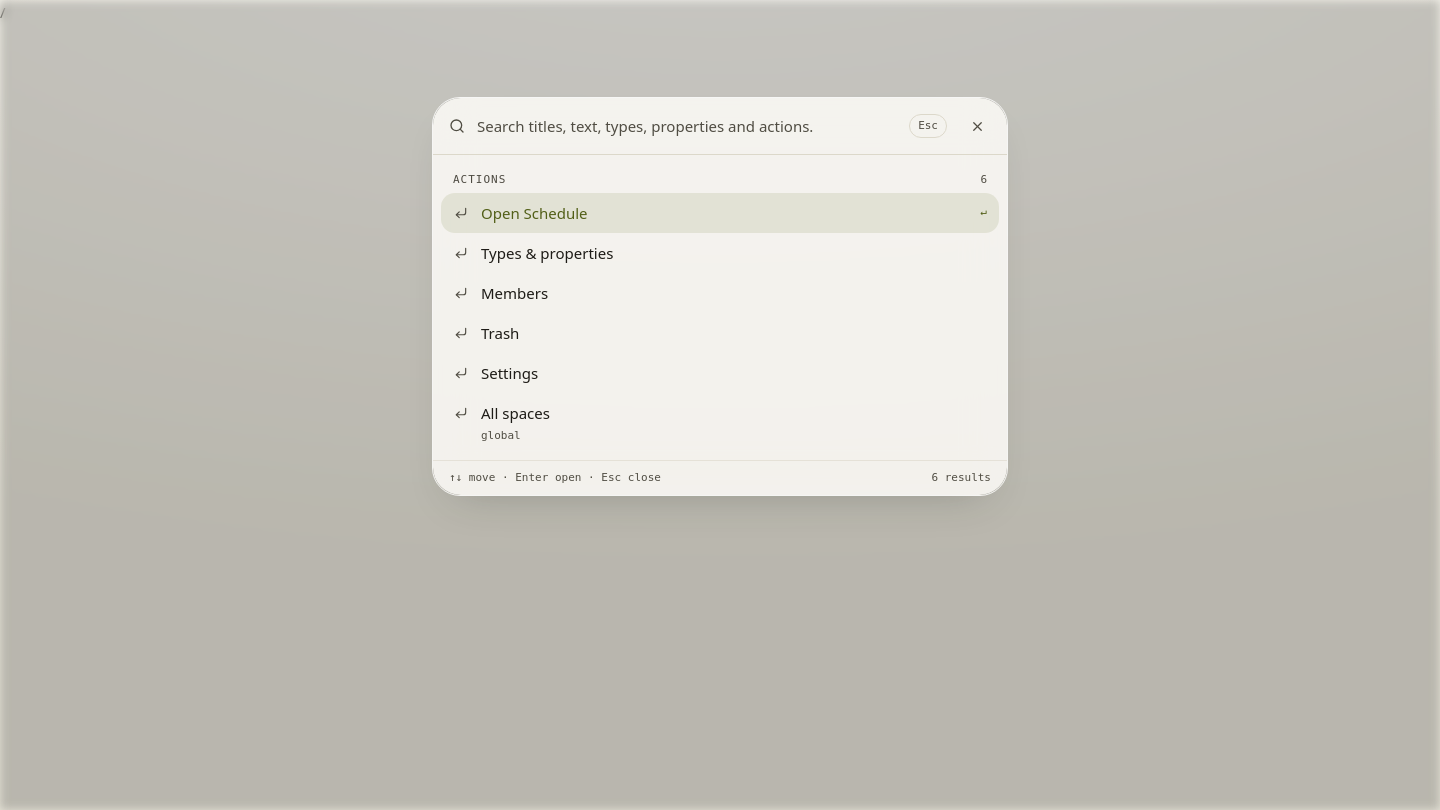
Scenario: CommandPalette › opens a typed date as its day
Type "2026-11-05" into the dropdown named "Search and commands" at (687, 126), box [477,98,897,154]
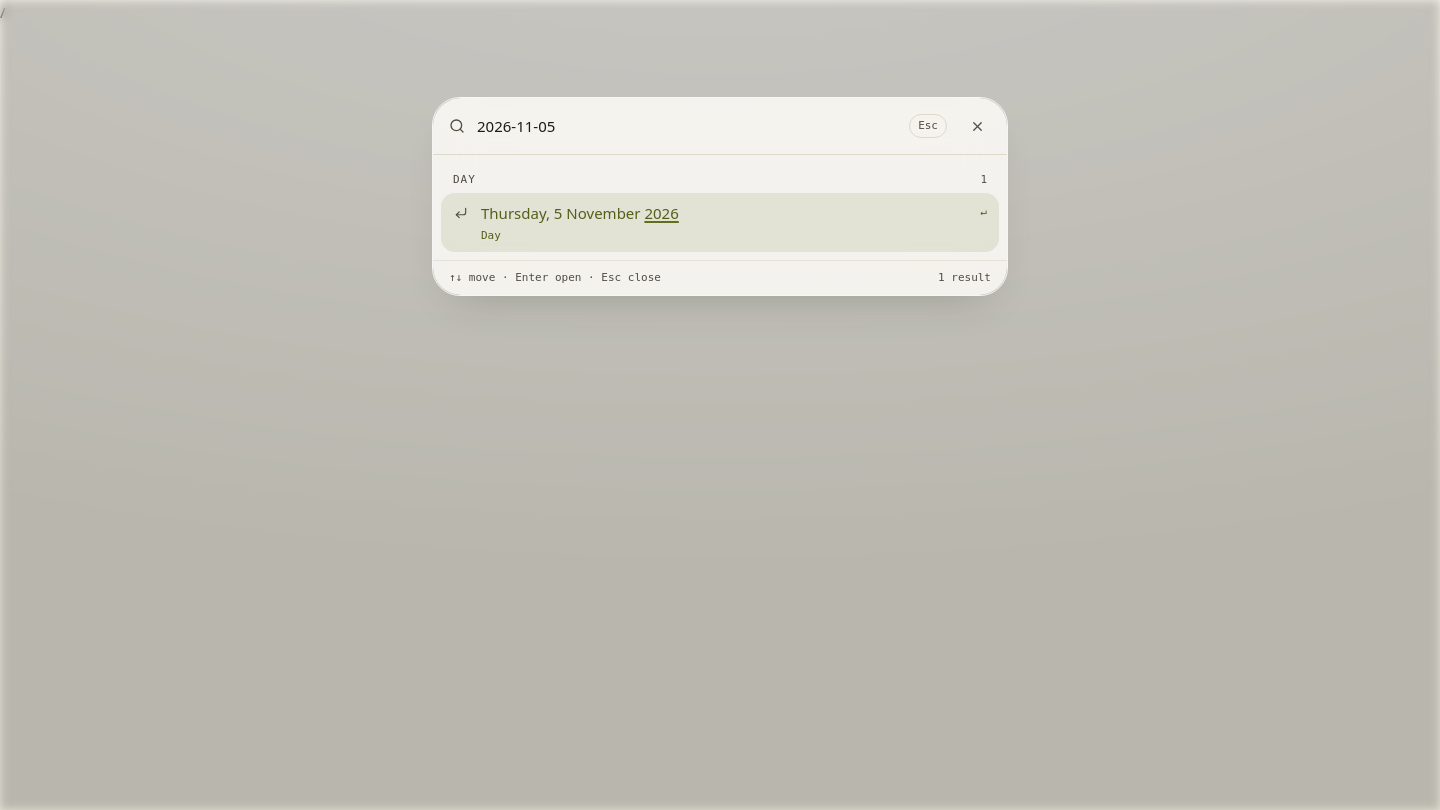
Press Enter in the dropdown named "Search and commands", box [477,98,897,154]
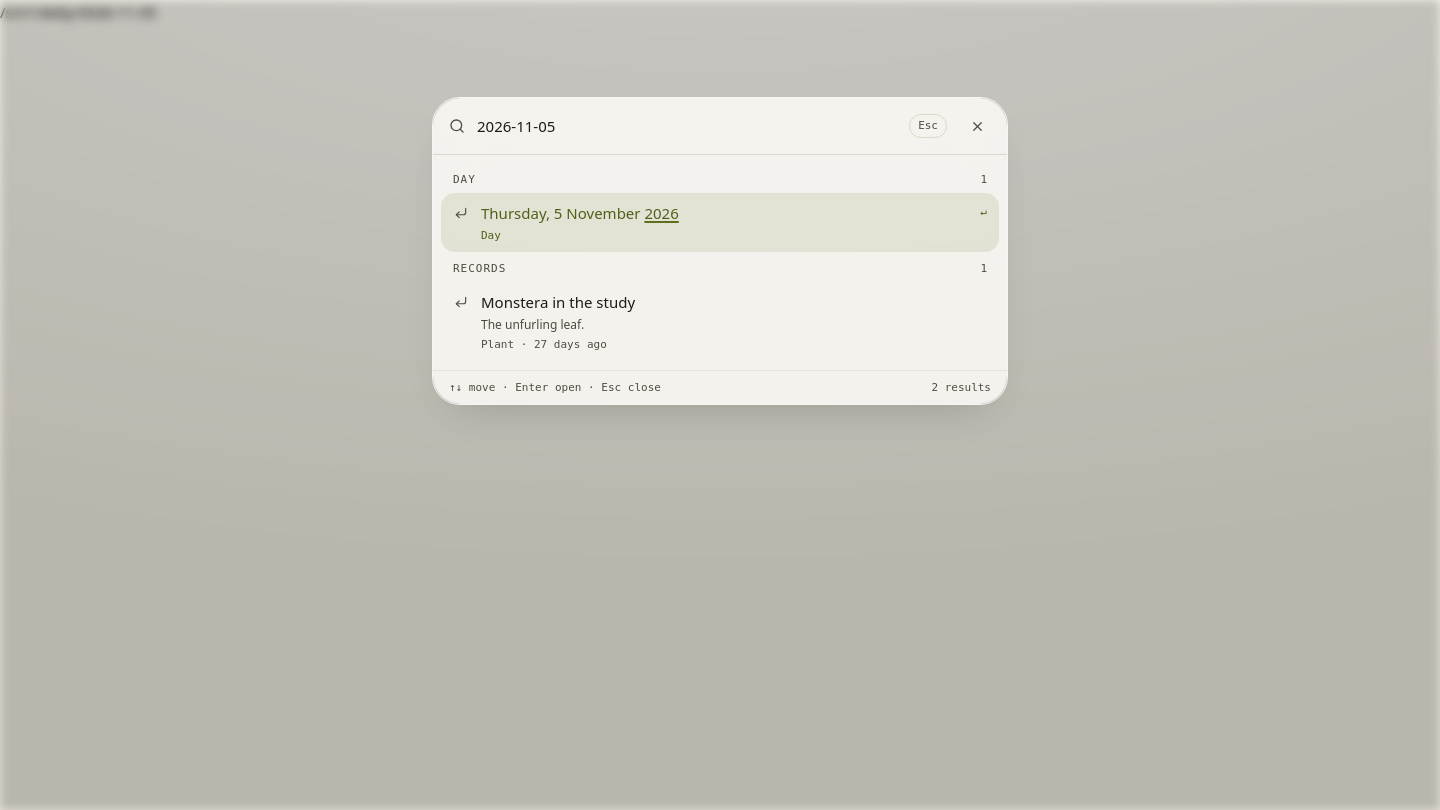
Result: the option "Thursday, 5 November 2026 Day ↵" is shown at [441,193,999,252]
Result: the text with test id "location" reads "/s/s1/daily/2026-11-05" at [0,2,157,22]
